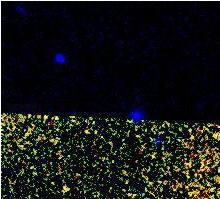star: (49, 169, 79, 199)
